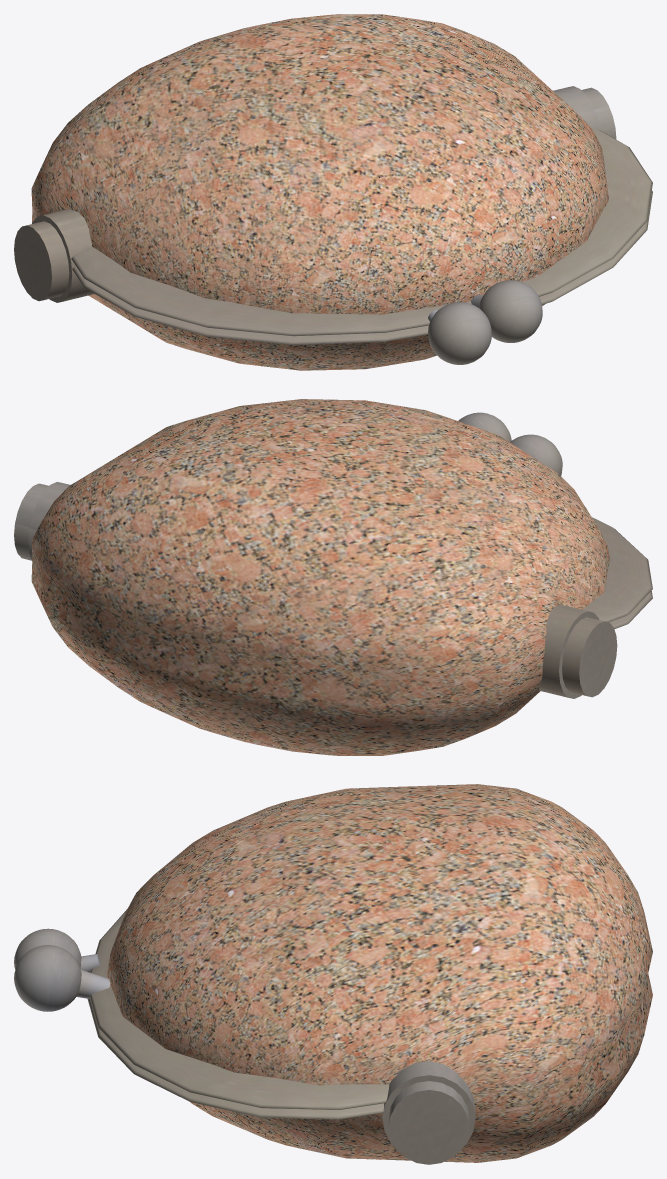
Rendered from Purse complete fix.fbx.
3 views of the same model, one above another, from view 1: azimuth 30°, elevation 25°; view 2: azimuth 150°, elevation 25°; view 3: azimuth 270°, elevation 25° (orthographic). The views are drawn at different scales.
Parts seen in each view (by area): view 1: pSphere1, pasted__pasted__pSphere2, pasted__pSphere2, pasted__pCylinder1, pasted__pasted__pSphere3, pasted__pSphere3, pCylinder1; view 2: pSphere1, pasted__pCylinder1, pasted__pasted__pSphere2, pCylinder1, pasted__pasted__pSphere3, pasted__pSphere3; view 3: pSphere1, pasted__pasted__pSphere2, pasted__pCylinder1, pasted__pSphere3, pasted__pSphere2, pCylinder1, pasted__pasted__pSphere3, pCylinder2.
Part boxes in pixels (x1,y1,x2,y2): pSphere1: [31, 14, 608, 370]; pasted__pasted__pSphere2: [71, 128, 652, 336]; pasted__pSphere2: [72, 191, 652, 345]; pasted__pCylinder1: [14, 87, 616, 301]; pasted__pasted__pSphere3: [428, 302, 491, 364]; pasted__pSphere3: [479, 280, 542, 342]; pCylinder1: [32, 86, 600, 302]; pSphere1: [31, 399, 609, 755]; pasted__pCylinder1: [14, 483, 617, 697]; pasted__pasted__pSphere2: [583, 517, 652, 622]; pCylinder1: [28, 482, 599, 698]; pasted__pasted__pSphere3: [510, 434, 562, 475]; pasted__pSphere3: [458, 412, 511, 441]; pSphere1: [107, 784, 652, 1162]; pasted__pasted__pSphere2: [89, 909, 389, 1109]; pasted__pCylinder1: [388, 1081, 469, 1164]; pasted__pSphere3: [14, 945, 81, 1011]; pasted__pSphere2: [87, 998, 383, 1119]; pCylinder1: [382, 1061, 475, 1146]; pasted__pasted__pSphere3: [14, 928, 81, 969]; pCylinder2: [76, 969, 110, 998].
Bounding box in the file's own units: 222 × 98.05 × 205.
